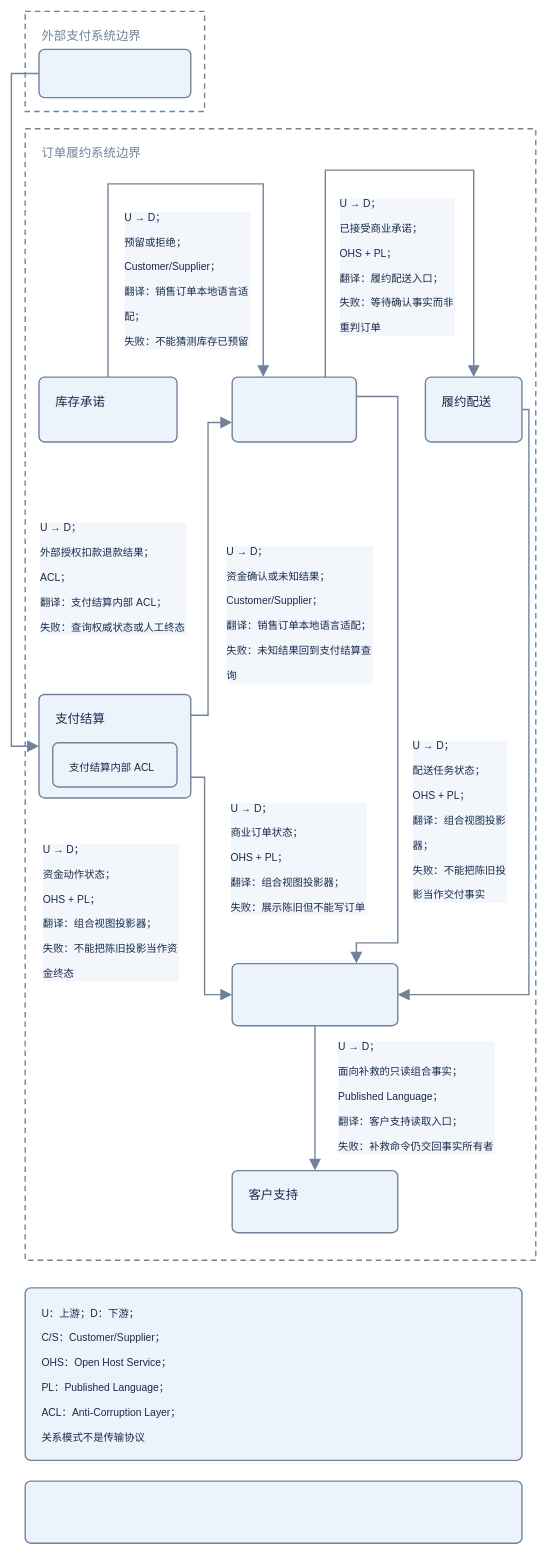
Image size: 547x1555. Some labels were removed from this diagram. Here are the shapes that lost their labels. From the top down, the centre of each, then its label:
At (114,73): "外部支付提供方".
At (294,409): "销售订单".
At (314,994): "只读组合视图".
At (273,1512): "未知支付结果：查询支付事实所有者或人工终态； 组合视图失败不转移写入权".
